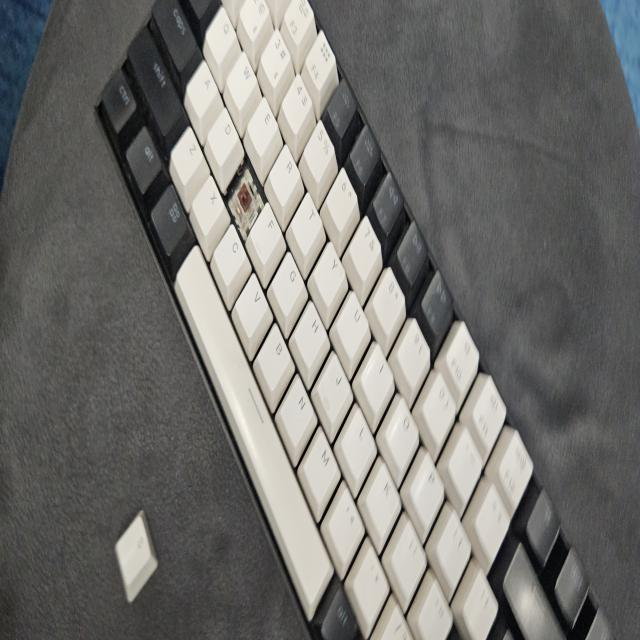C: (236, 172, 254, 212)
